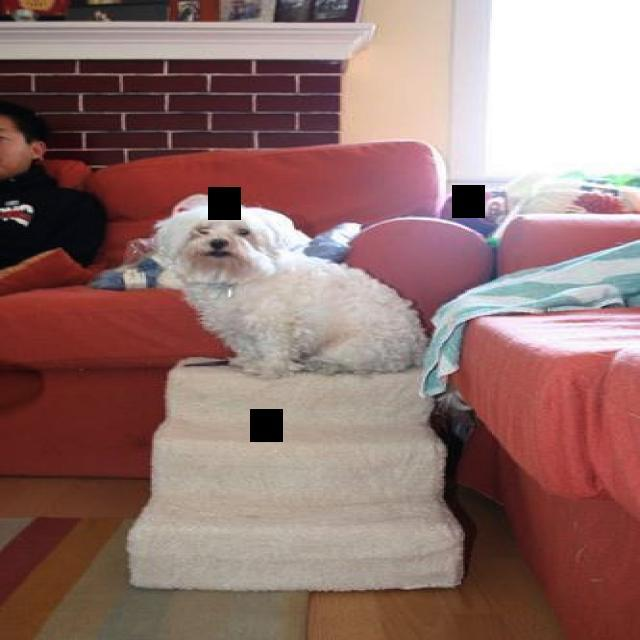adult_dog: (148, 193, 433, 386)
